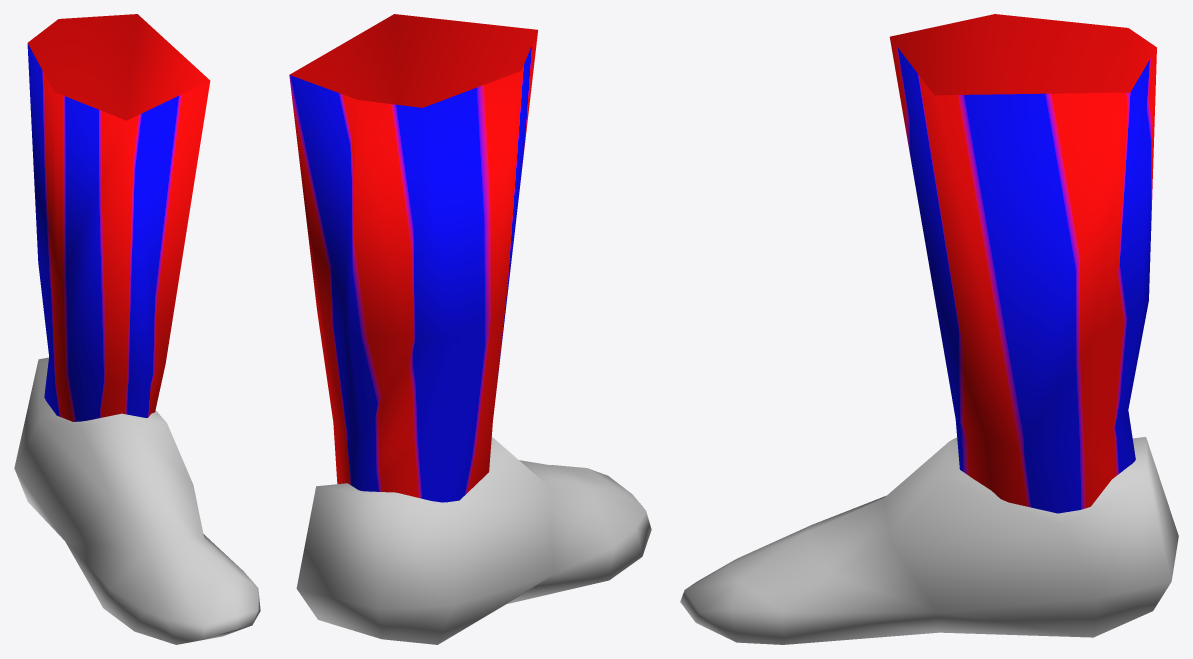
The model's file is socks.FBX.
3 renders of one model, left to right at view 1: azimuth 30°, elevation 25°; view 2: azimuth 150°, elevation 25°; view 3: azimuth 270°, elevation 25°, orthographic. The views are drawn at different scales.
Parts seen in each view (by area): view 1: Socks, Shoe; view 2: Socks, Shoe; view 3: Socks, Shoe.
Part boxes in pixels (x1,y1,x2,y2): Socks: (27,14,210,421); Shoe: (14,357,260,644); Socks: (289,14,537,502); Shoe: (296,436,651,644); Socks: (889,14,1156,513); Shoe: (680,437,1178,644).
Size of the model in its own units: 0.5022 by 1.18 by 1.52.
